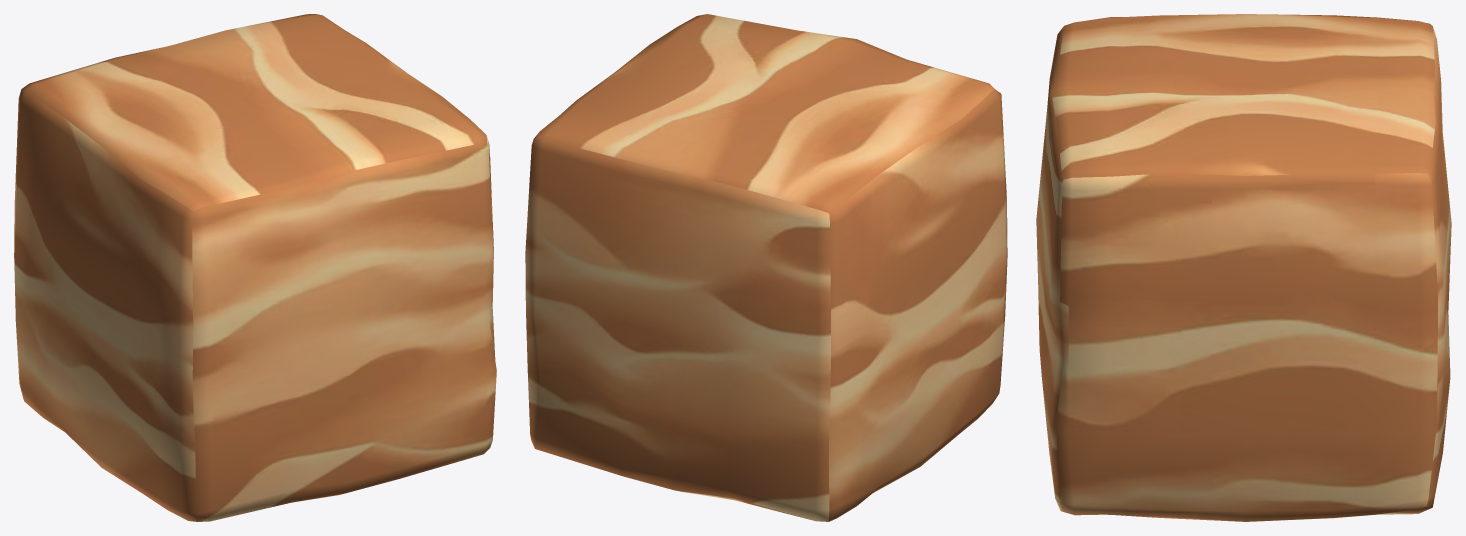
Rendered from sand_tile.fbx.
The picture shows the model from 3 angles, left to right: view 1: azimuth 30°, elevation 25°; view 2: azimuth 150°, elevation 25°; view 3: azimuth 270°, elevation 25°; orthographic projection. The views are drawn at different scales.
Visible parts, largest first — view 1: model_0.001; view 2: model_0.001; view 3: model_0.001.
Part boxes in pixels (box(x1,y1,x2,y2)): model_0.001: box(14, 14, 496, 521); model_0.001: box(525, 14, 1007, 521); model_0.001: box(1036, 14, 1451, 521).
Bounding box in the file's own units: 1781 × 1784 × 1794.
1 material, 1 textured.
